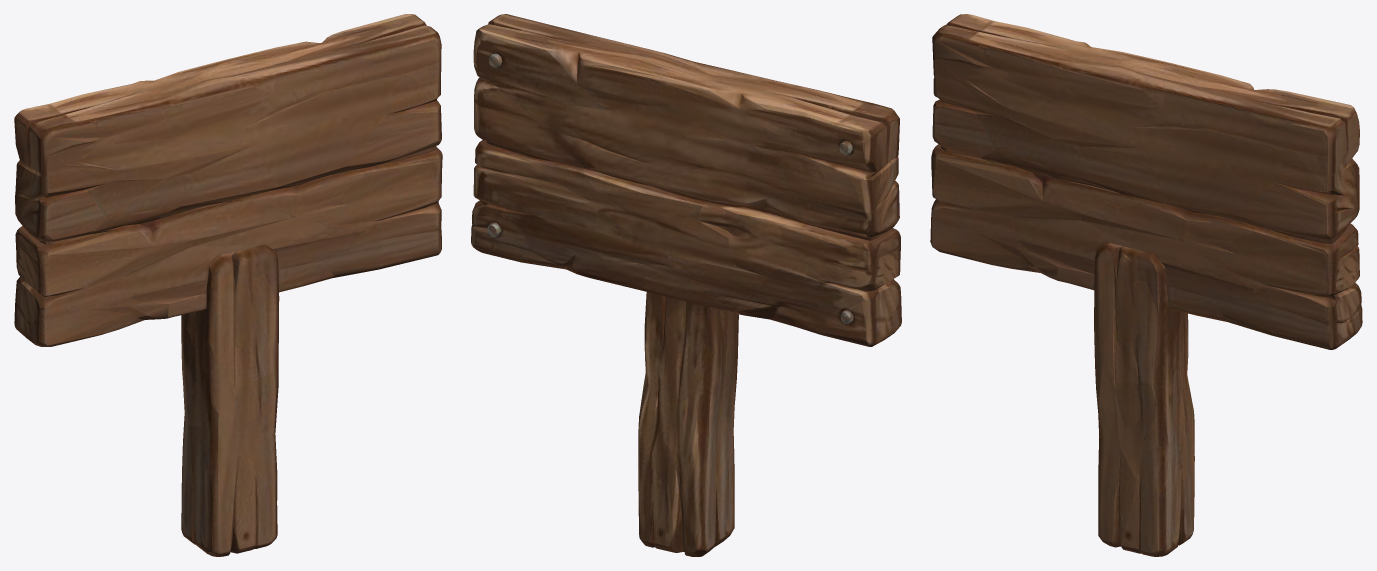
The model's file is sign_3d.glb.
3 renders of one model, left to right at view 1: azimuth 30°, elevation 25°; view 2: azimuth 150°, elevation 25°; view 3: azimuth 330°, elevation 25°, orthographic.
Visible parts, largest first — view 1: Mesh_0; view 2: Mesh_0; view 3: Mesh_0.
Part boxes in pixels (x1,y1,x2,y2): Mesh_0: (14, 14, 442, 556); Mesh_0: (471, 14, 901, 556); Mesh_0: (930, 14, 1362, 556).
Size of the model in its own units: 0.9553 by 1.06 by 0.1547.
1 material, 1 textured.
